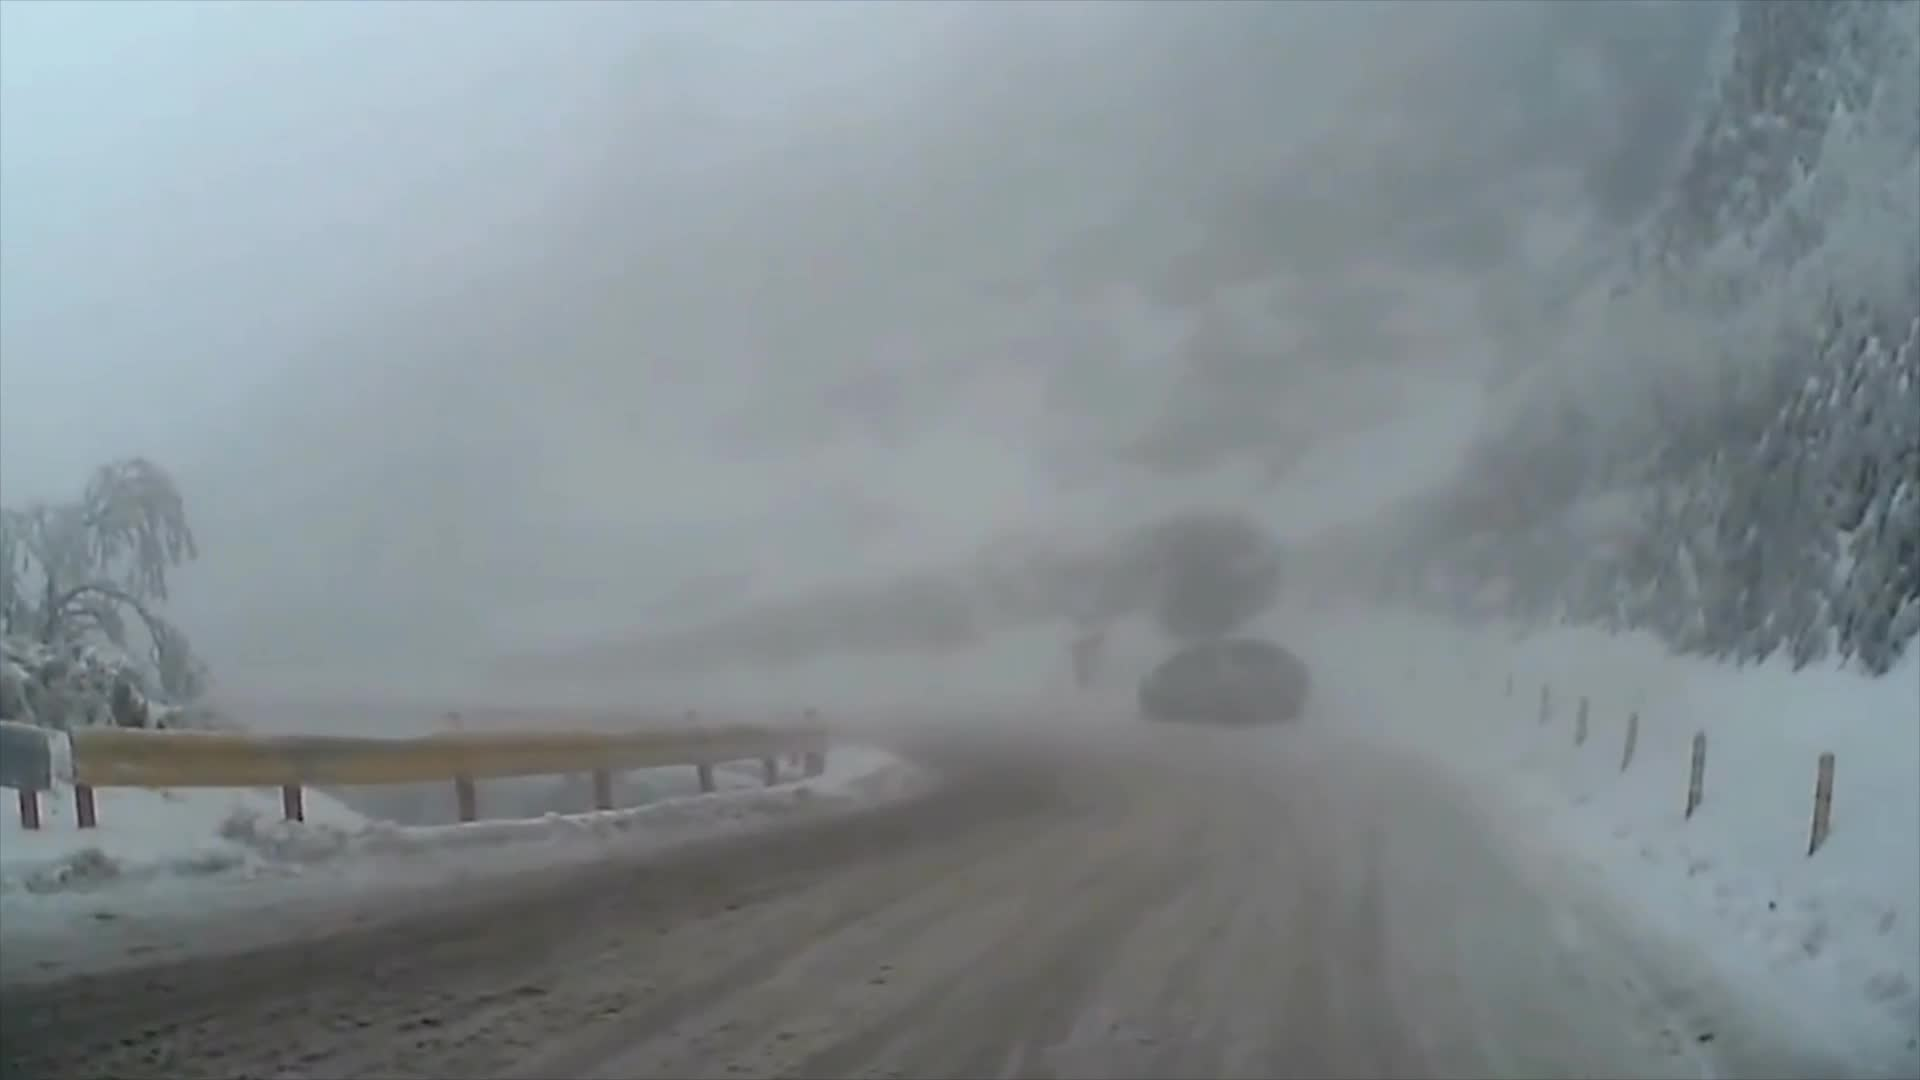vehicle: (1139, 637, 1309, 723)
